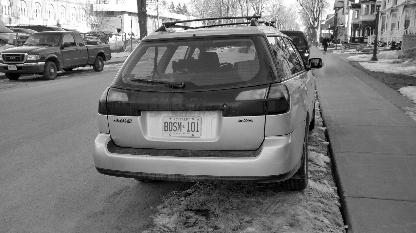license plate: (156, 112, 208, 139)
